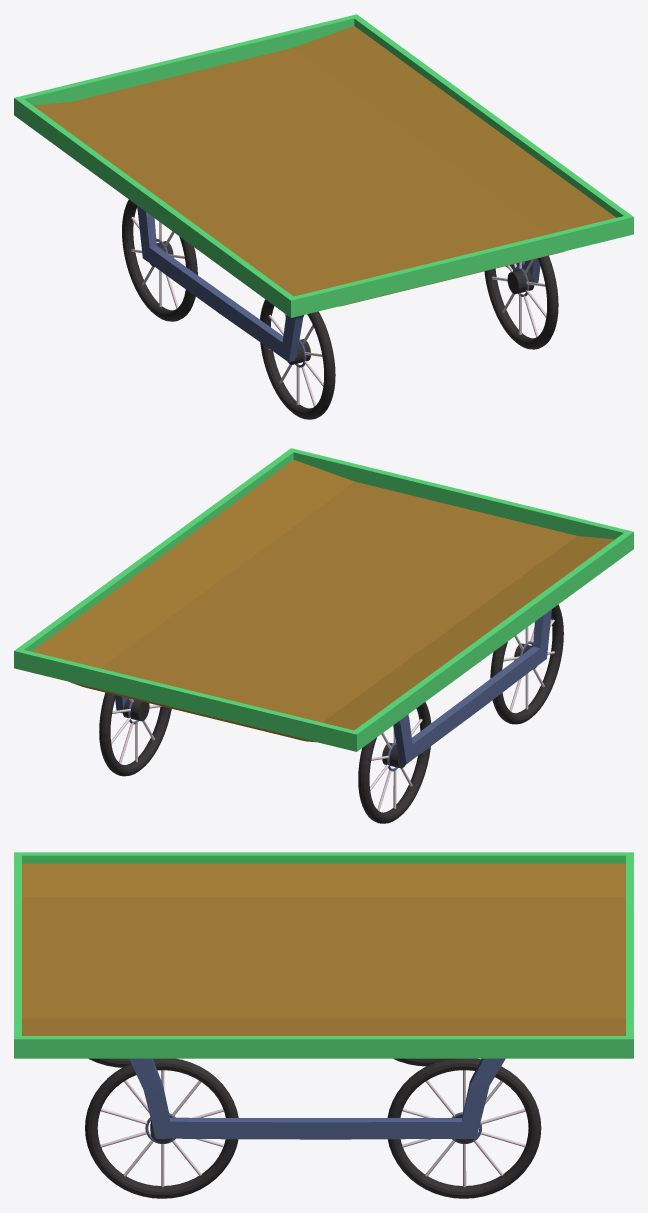
Rendered from Empty Cart.fbx.
The picture shows the model from 3 angles, top to bottom: view 1: azimuth 30°, elevation 25°; view 2: azimuth 150°, elevation 25°; view 3: azimuth 270°, elevation 25°; orthographic projection. The views are drawn at different scales.
Parts seen in each view (by area): view 1: Cube.002; view 2: Cube.002; view 3: Cube.002.
Part boxes in pixels (bbox=[...]): Cube.002: bbox=[14, 14, 633, 419]; Cube.002: bbox=[14, 448, 633, 823]; Cube.002: bbox=[14, 852, 633, 1198].
Size of the model in its own units: 434 by 199 by 608.
